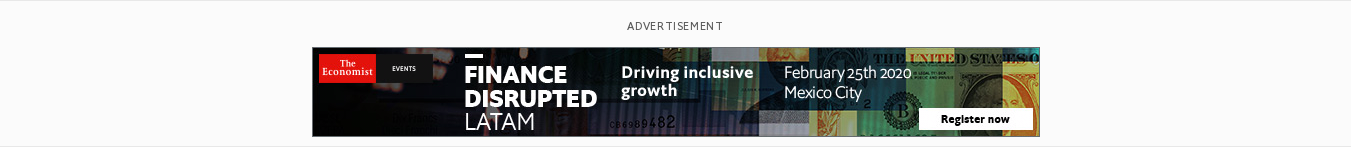fake_button: (915, 98, 1043, 138)
